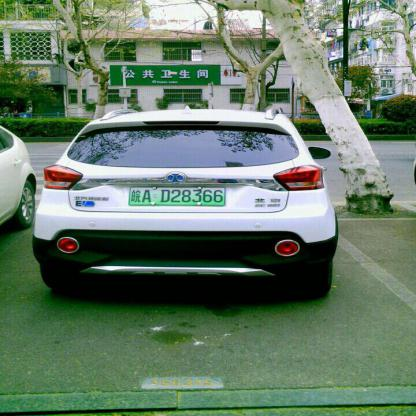lp: (127, 186, 225, 206)
